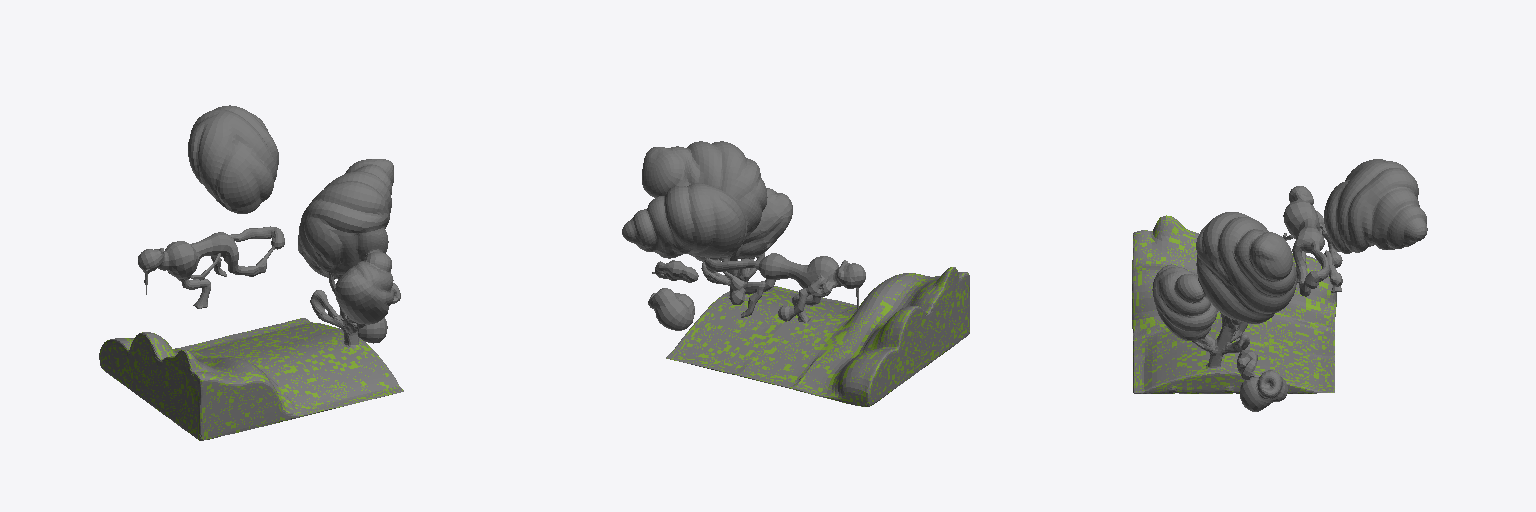
3 views of the same model, side by side, from view 1: azimuth 30°, elevation 25°; view 2: azimuth 150°, elevation 25°; view 3: azimuth 270°, elevation 25° (orthographic).
Parts seen in each view (by area): view 1: tripo_node_5d790c32_2d38_4805_b6d1_13c712d06e6d, Pasto; view 2: tripo_node_5d790c32_2d38_4805_b6d1_13c712d06e6d, Pasto; view 3: tripo_node_5d790c32_2d38_4805_b6d1_13c712d06e6d, Pasto.
Boxes of the visible parts, x1=… form: tripo_node_5d790c32_2d38_4805_b6d1_13c712d06e6d: x1=99, y1=105, x2=403, y2=440; Pasto: x1=100, y1=318, x2=402, y2=440; tripo_node_5d790c32_2d38_4805_b6d1_13c712d06e6d: x1=622, y1=141, x2=969, y2=406; Pasto: x1=667, y1=267, x2=969, y2=406; tripo_node_5d790c32_2d38_4805_b6d1_13c712d06e6d: x1=1132, y1=159, x2=1427, y2=411; Pasto: x1=1132, y1=215, x2=1336, y2=393.
Size of the model in its own units: 0.9438 by 0.7126 by 0.9333.
2 materials, 1 textured.